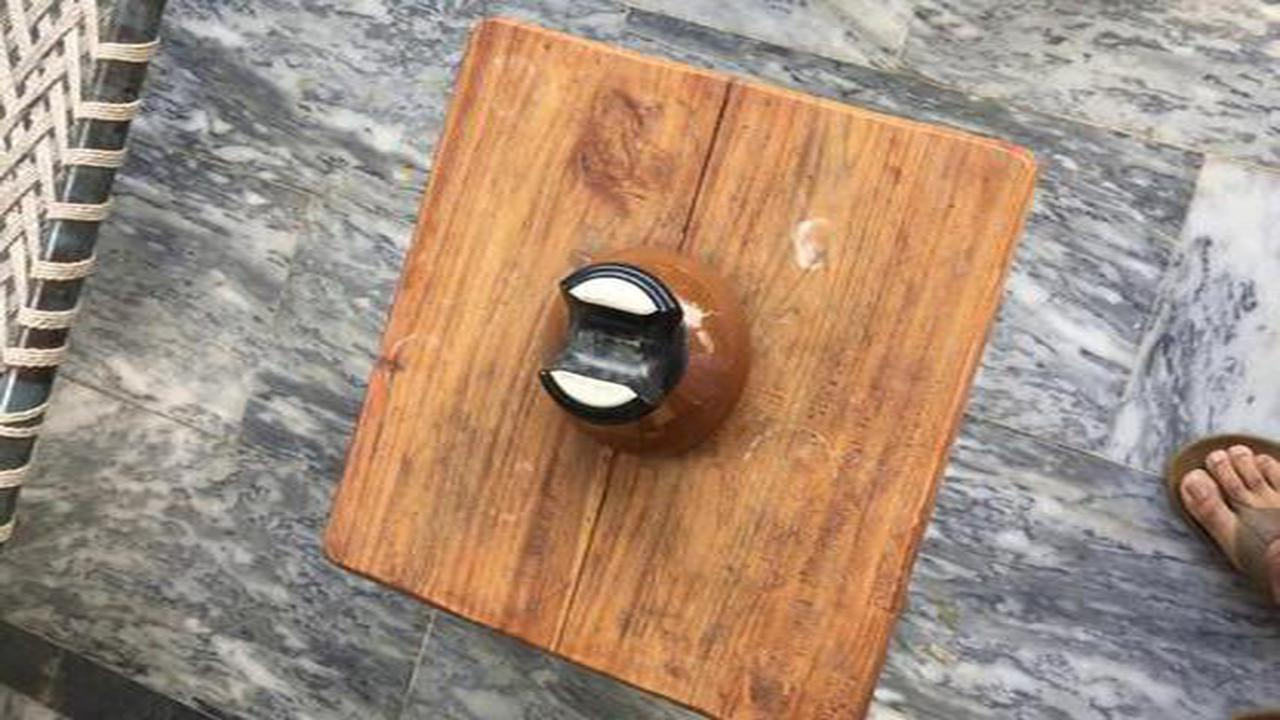insulator_pin: (517, 240, 779, 482)
